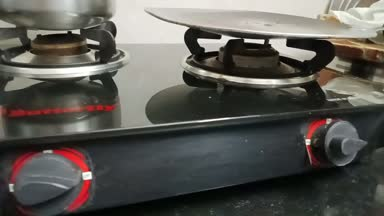flame_gas_off: (190, 38, 372, 175), (1, 28, 118, 215)
